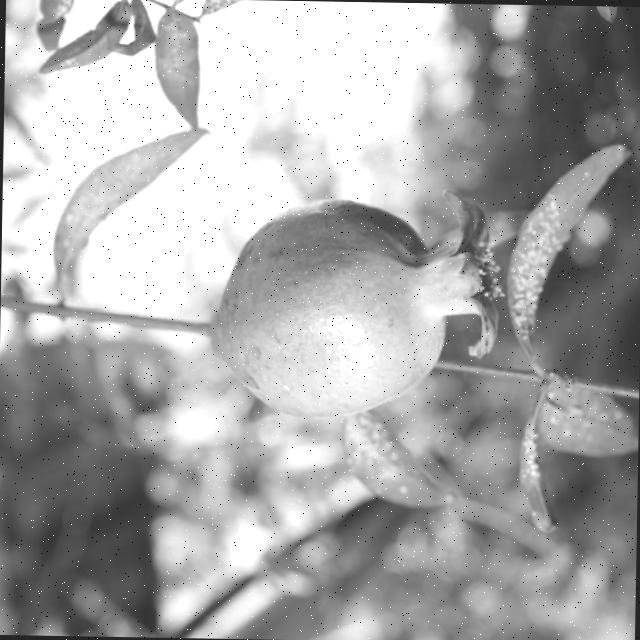Unripe: (208, 182, 504, 415)
